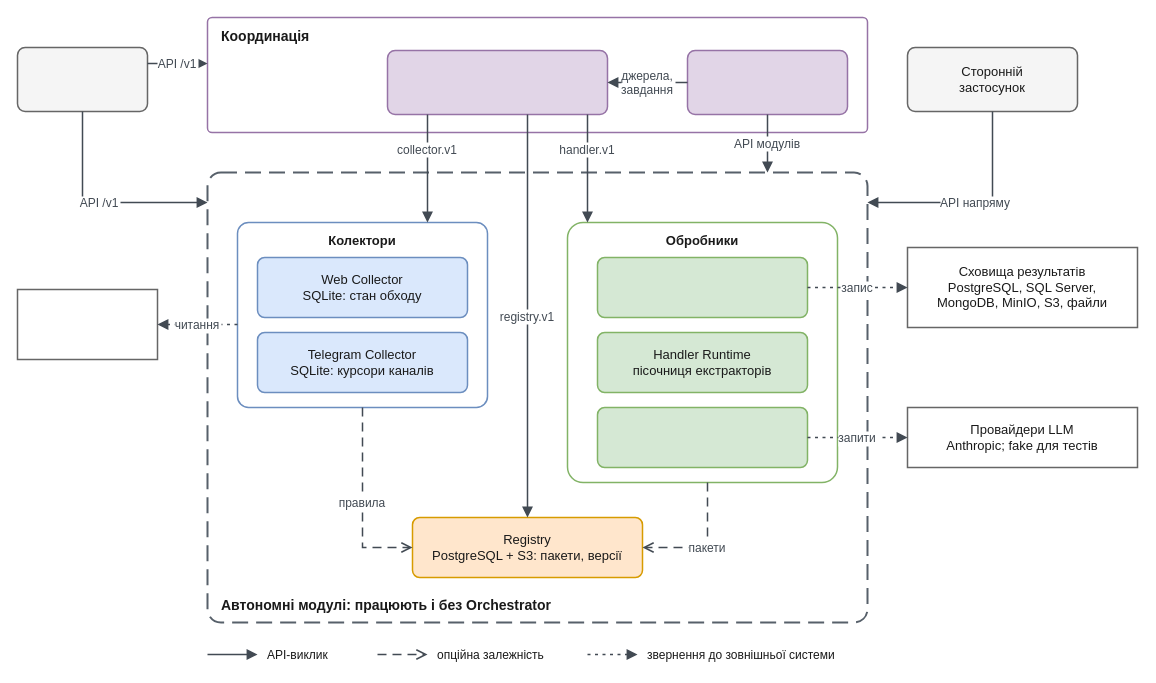
This 1156x683 diagram has some shape labels left out. Each missing label, with the centre of its shape:
"Admin UI web/admin" goes at (82,79).
"Assistant PostgreSQL: сесії" goes at (767,82).
"LLM gateway PostgreSQL: бюджети, витрати" goes at (702,437).
"Orchestrator PostgreSQL: завдання, запуски" goes at (497,82).
"Storage дані в цільових сховищах" goes at (702,287).
"Джерела сайти, Telegram" goes at (87,324).
